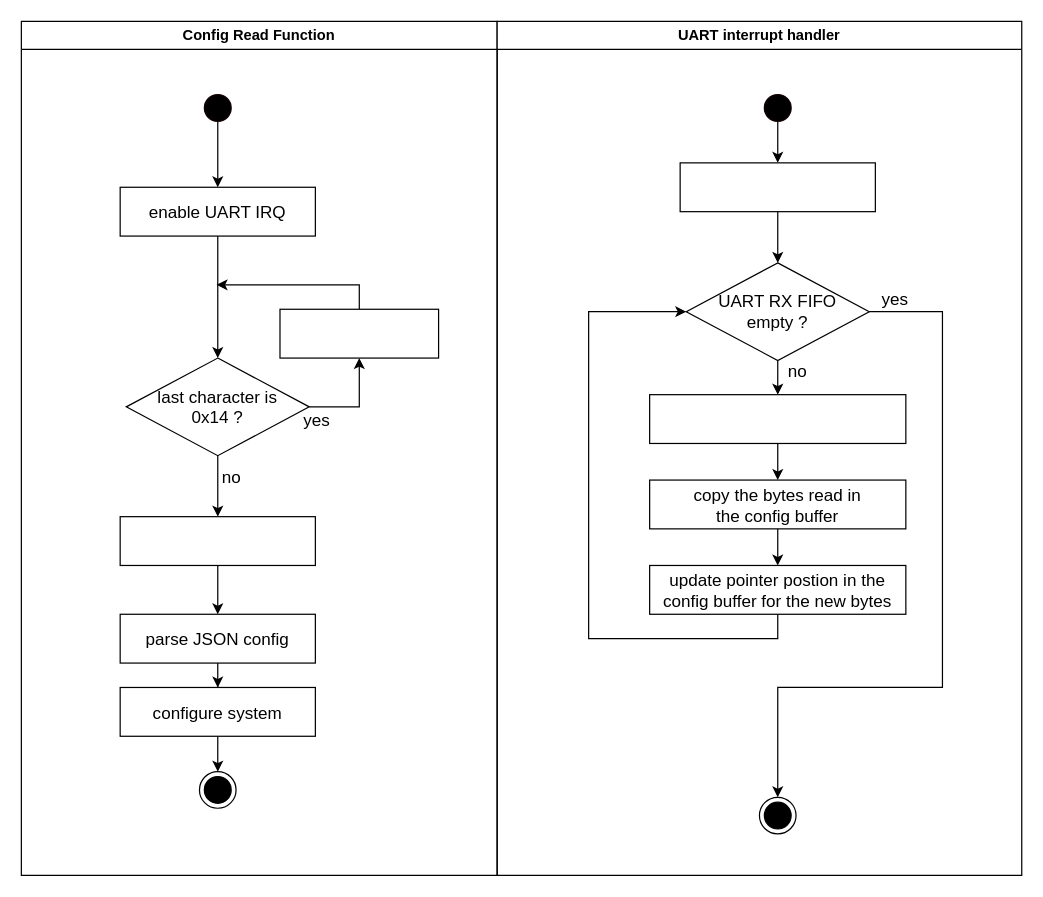
This 1043x897 diagram has some shape labels left out. The centre of each missing label's shape, as x and y in pixels:
"disable UART IRQ" belongs at pixel 217 540.
"try to read 64 bytes and store them in a temp buffer" belongs at pixel 777 418.
"update interrupt flags" belongs at pixel 777 187.
"wait 100 ms" belongs at pixel 359 333.
